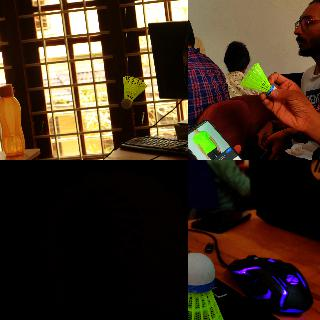shuttlecock: (40, 170, 187, 319), (188, 253, 234, 319), (240, 62, 276, 98), (120, 75, 146, 108)
